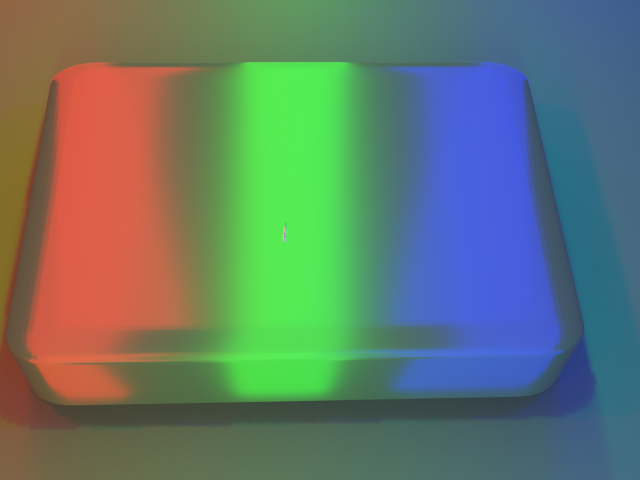scratch: (225, 203, 333, 264)
